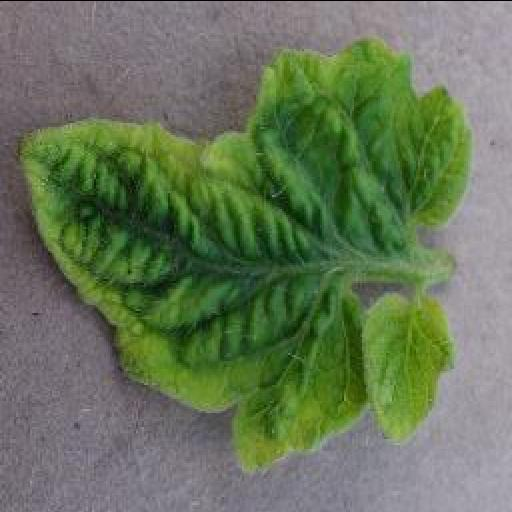disease_tomato: (14, 36, 470, 478)
